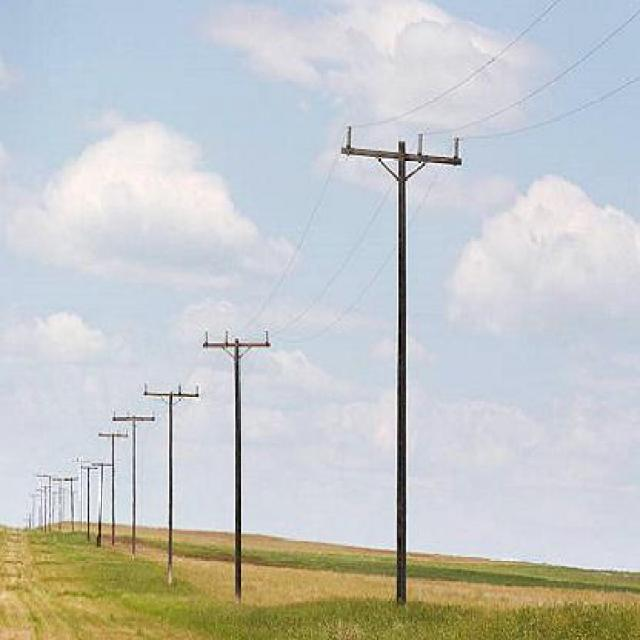pole: (332, 110, 476, 598), (195, 324, 277, 578), (142, 376, 196, 546), (96, 424, 130, 536)
